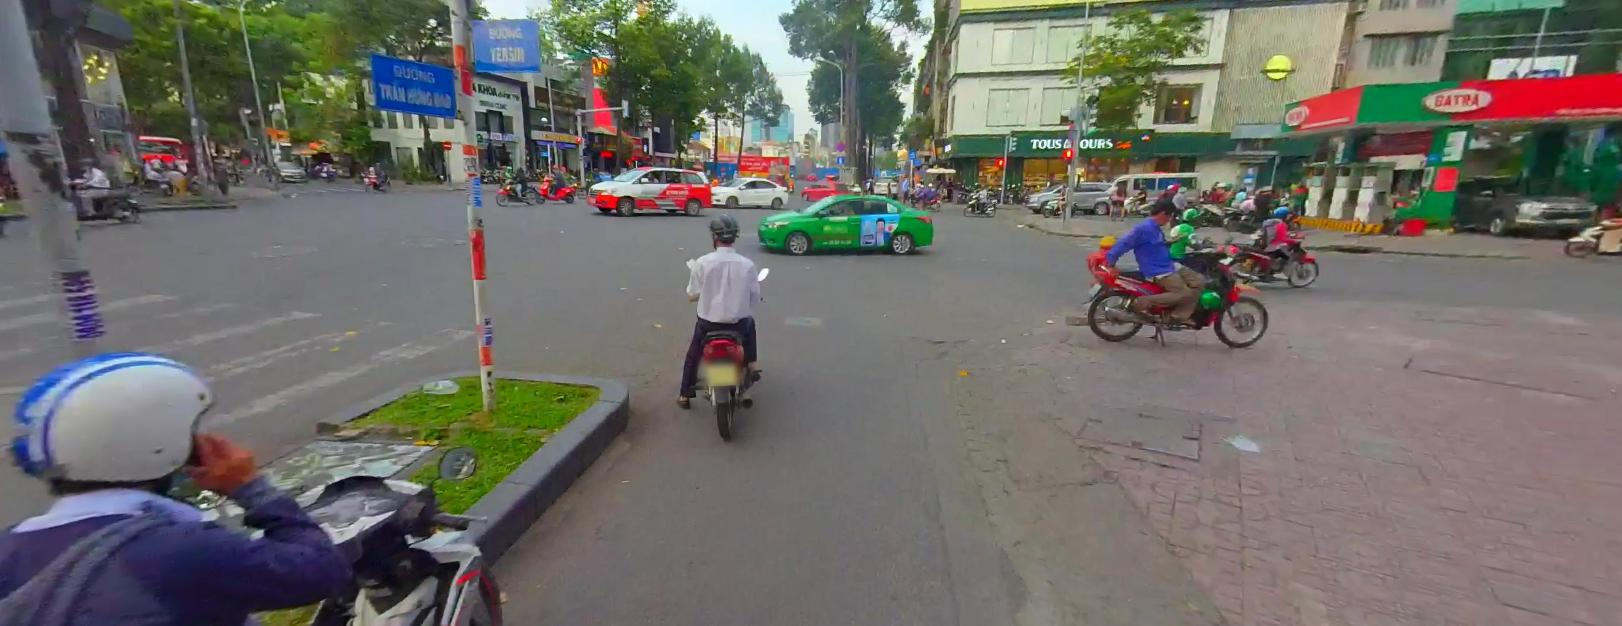Cam dung va do: (835, 139, 844, 150)
Cam nguoc chieu: (441, 139, 451, 149)
